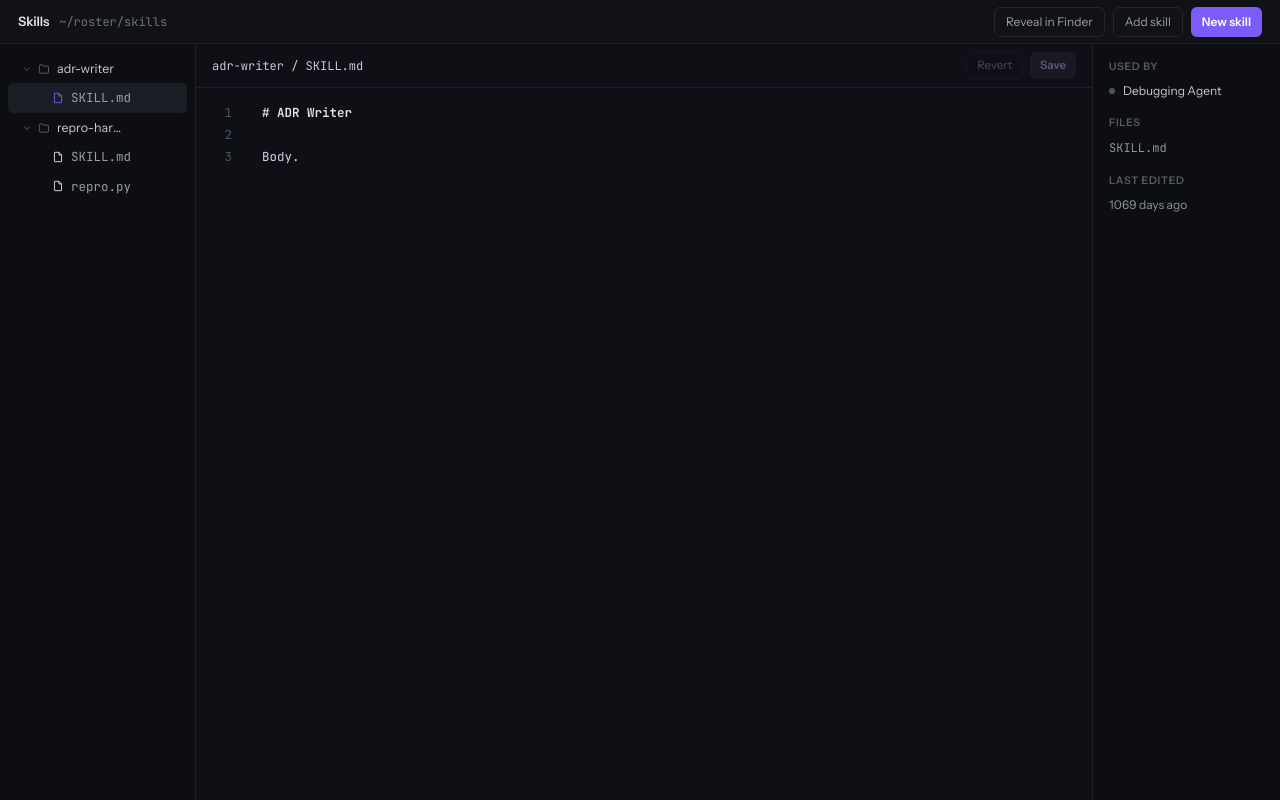
Skills › marks the file unsaved once edited, and Save clears it
Type " more" into the text box named "Skill file contents". click: (667, 444)
box: [242,88,1092,799]
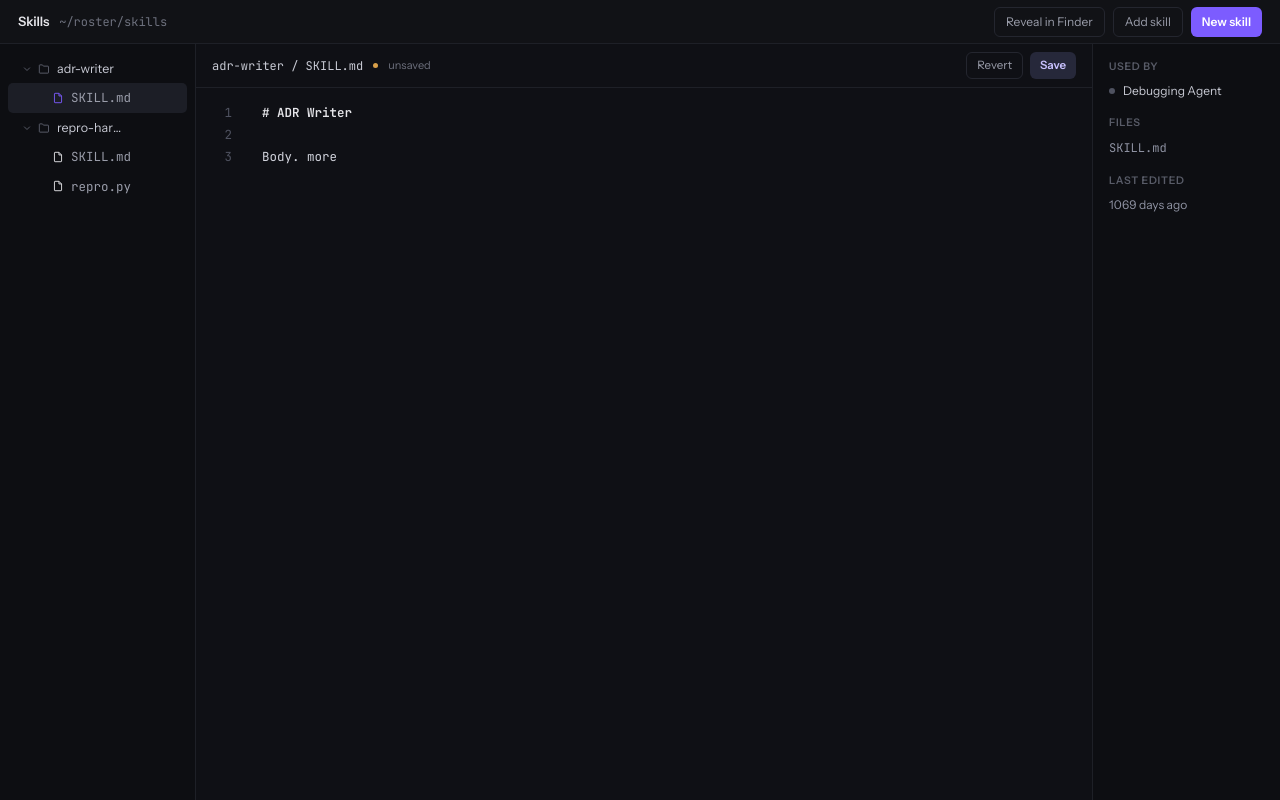
Expected: the text "unsaved" is shown, [388,58,431,74]
Click the button "Save". click: (1053, 66)
box: [1030,52,1076,79]
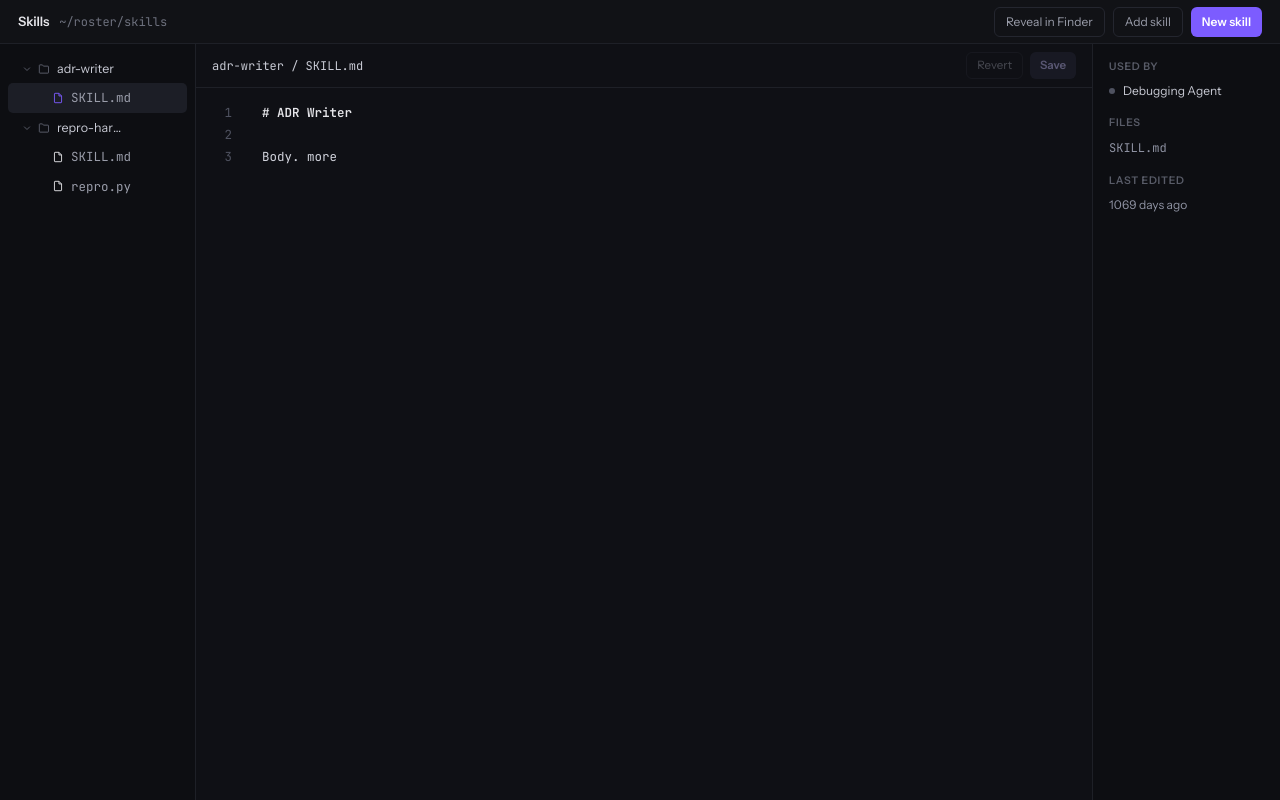
Expected: the text "unsaved" is gone
